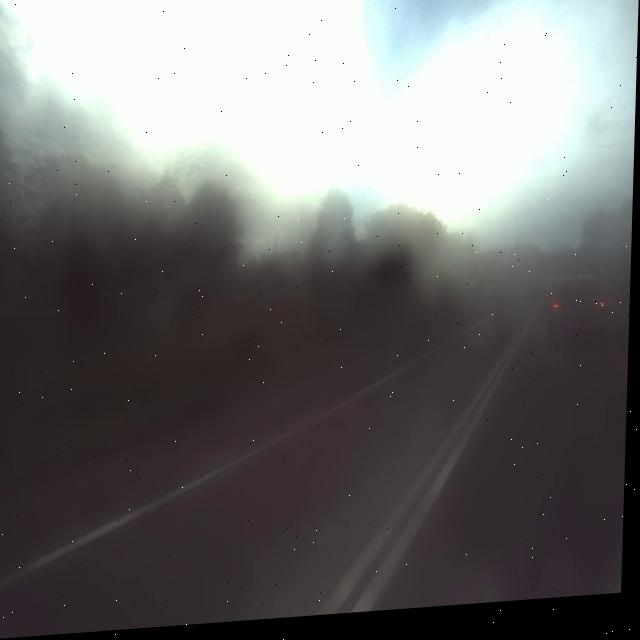car: (541, 274, 617, 359)
